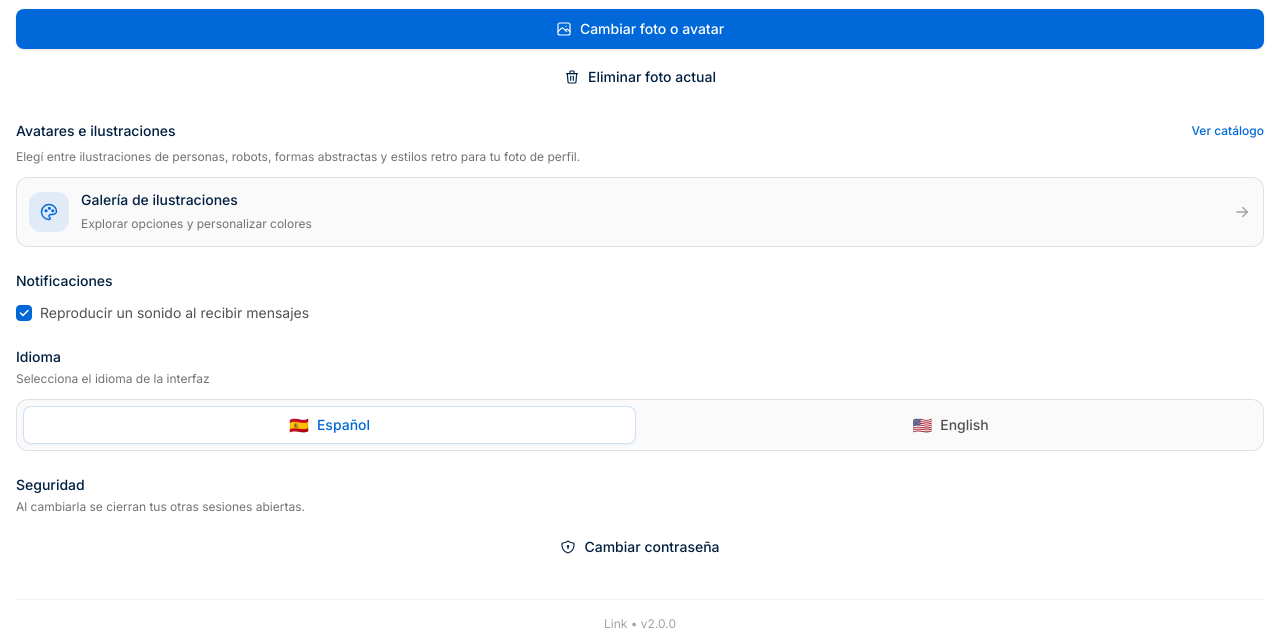
Test: ProfileSettingsPanel › Seguridad: cambiar contraseña (LOCAL_AUTH_PLAN.md, Fase 9) › con cuentas locales aparece la sección, y el cambio reemplaza el token
This screenshot has width=1280, height=636.
(page scrolled)
Expected: the heading "Seguridad" is shown, [16, 476, 85, 493]
Click the button "Cambiar contraseña" at coordinates (640, 547), box [16, 527, 1264, 567]
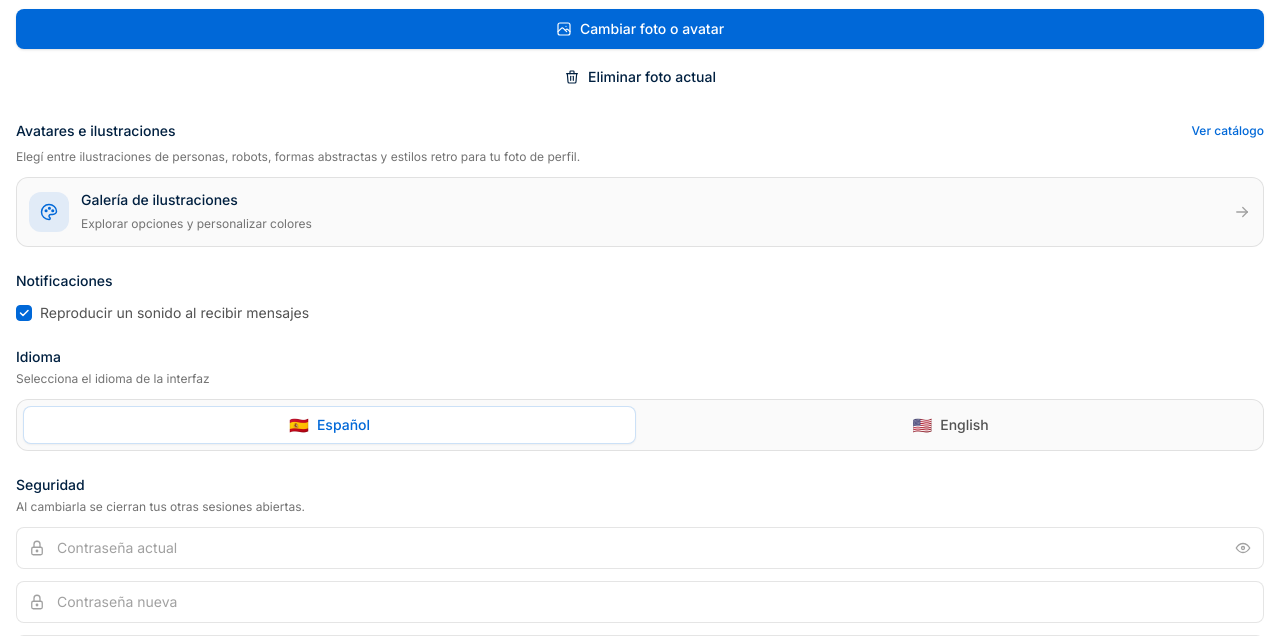
Type "la-de-antes-123" into the password field labelled "Contraseña actual" at coordinates (640, 548), box [16, 527, 1264, 569]
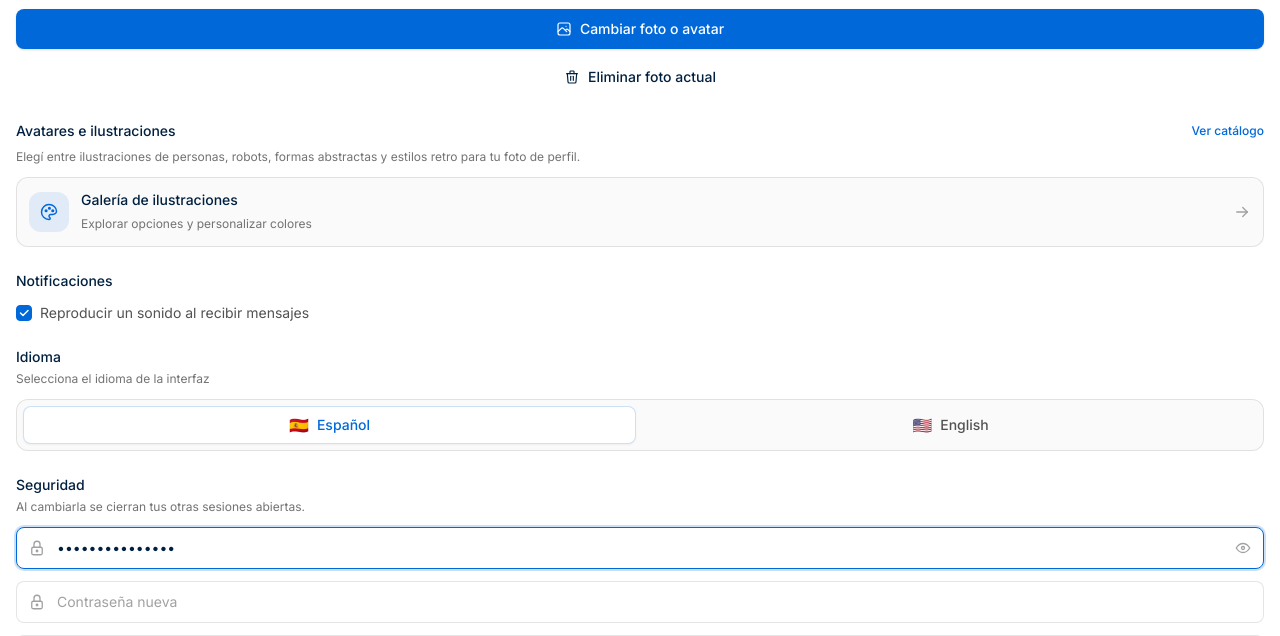
Type "una frase nueva larga" into the password field labelled "Contraseña nueva" at coordinates (640, 602), box [16, 581, 1264, 623]
(page scrolled)
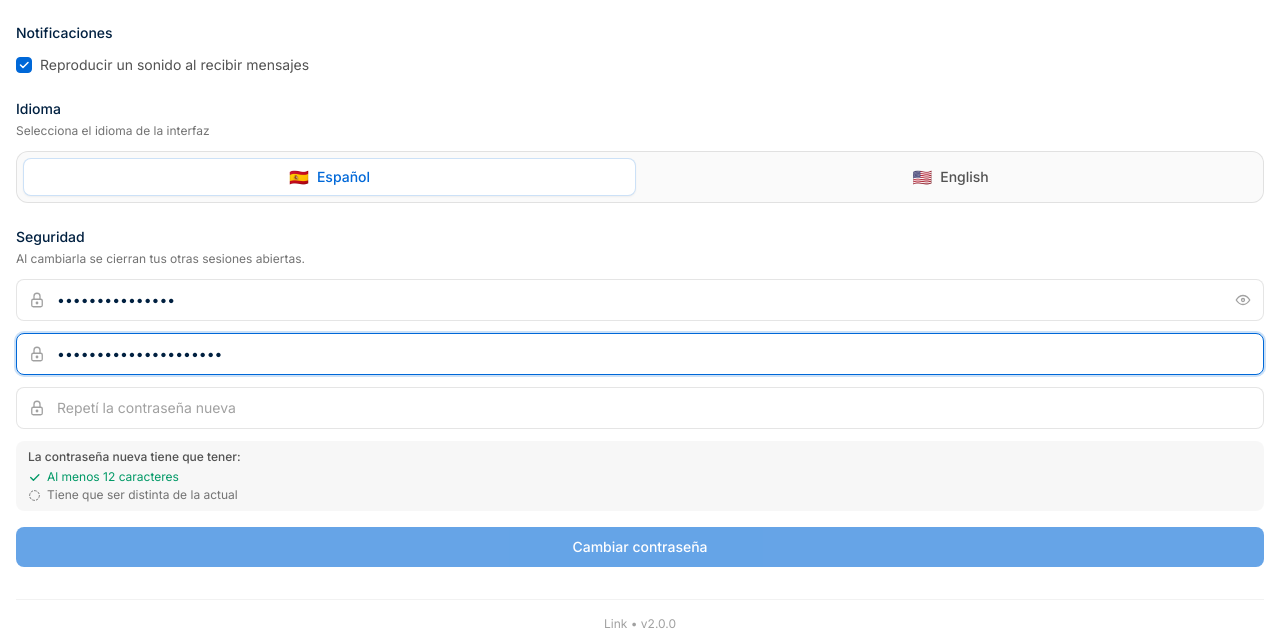
Type "una frase nueva larga" into the password field labelled "Repetí la contraseña nueva" at coordinates (640, 408), box [16, 387, 1264, 429]
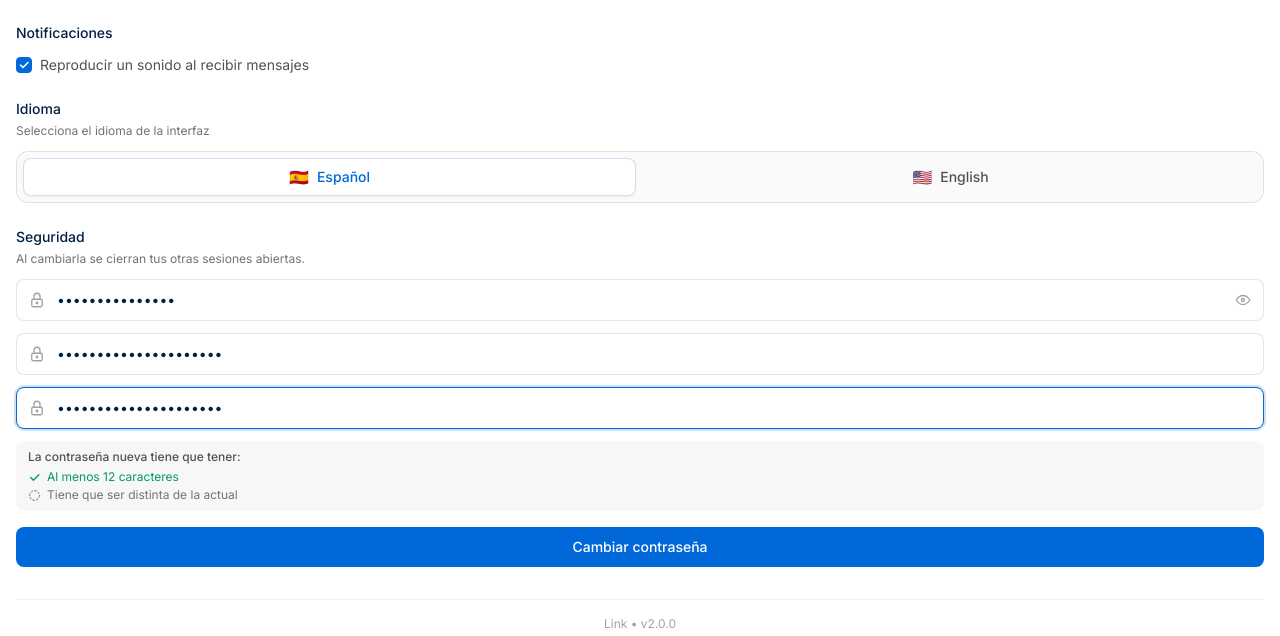
Click the button "Cambiar contraseña" at coordinates (640, 547), box [16, 527, 1264, 567]
(page scrolled)
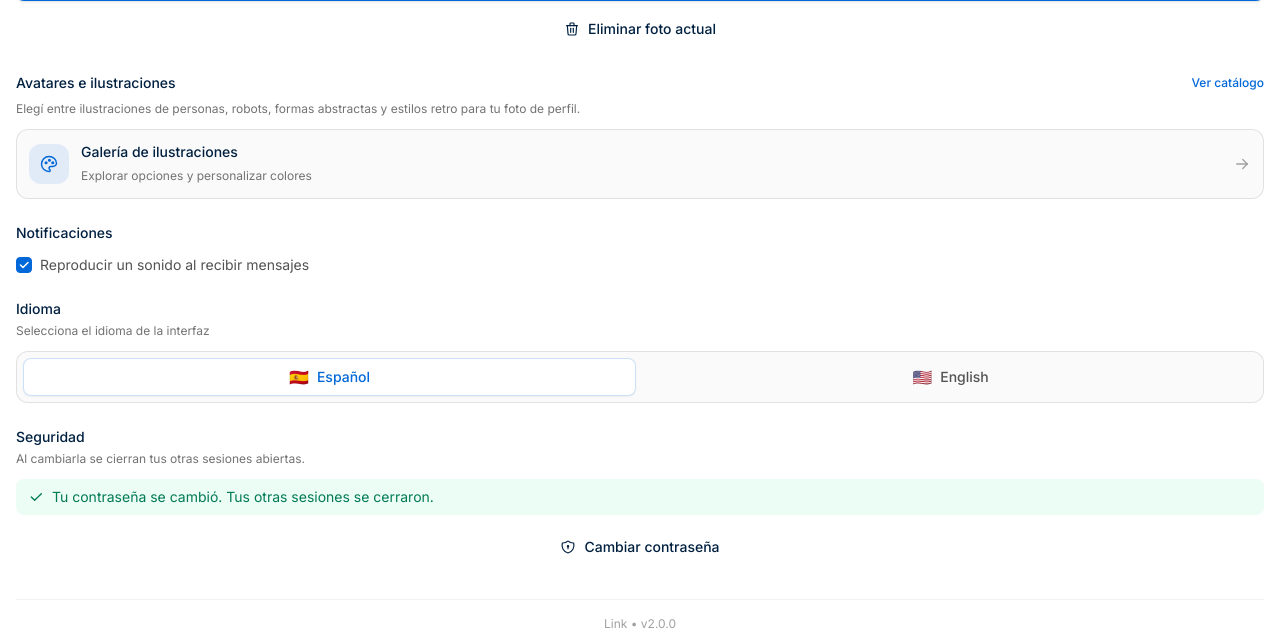
Expected: the text "Tu contraseña se cambió. Tus otras sesiones se cerraron." is shown, [52, 487, 434, 507]
